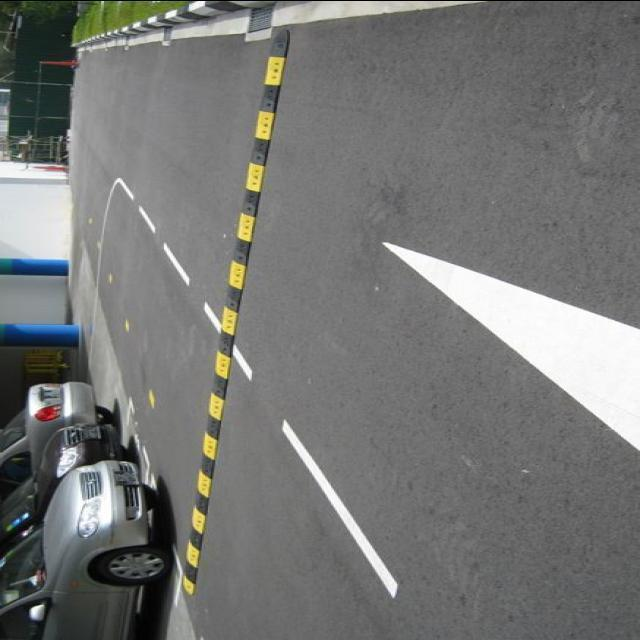speedbreaker: (168, 18, 304, 598)
